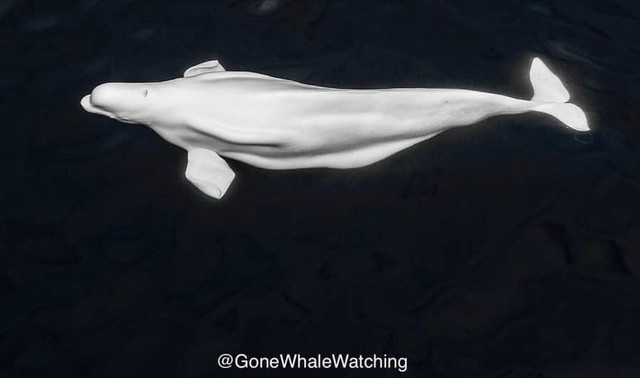whale: (64, 44, 600, 207)
